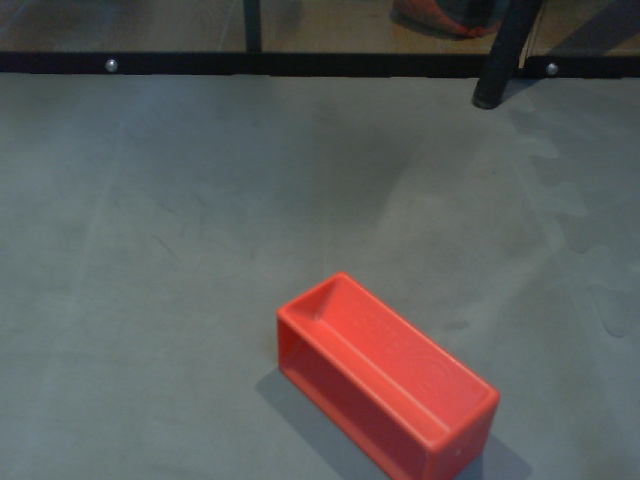RedSample: (275, 269, 504, 480)
